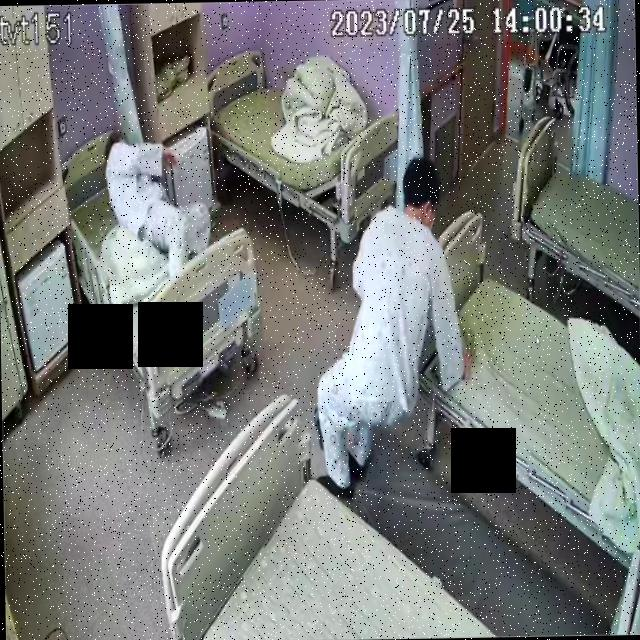bed: (402, 201, 640, 562), (172, 387, 491, 640), (61, 122, 270, 377), (208, 46, 398, 206), (518, 114, 640, 306)
danger: (314, 153, 477, 495)
lie: (100, 122, 218, 275)
patient: (313, 154, 477, 494), (100, 126, 218, 278)
